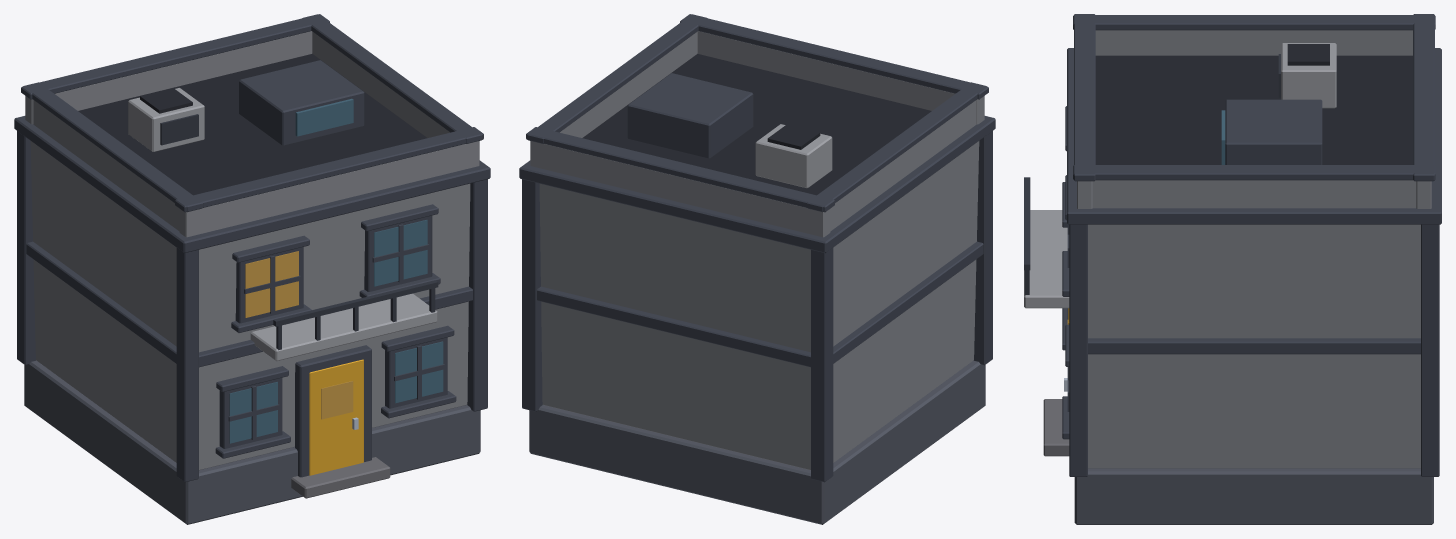
The model's file is Stylized_Apoc_House_02_Concrete_Duplex.fbx.
3 renders of one model, left to right at view 1: azimuth 30°, elevation 25°; view 2: azimuth 150°, elevation 25°; view 3: azimuth 270°, elevation 25°, orthographic. The views are drawn at different scales.
Parts seen in each view (by area): view 1: Stylized_Apoc_House_02_Concrete_Duplex; view 2: Stylized_Apoc_House_02_Concrete_Duplex; view 3: Stylized_Apoc_House_02_Concrete_Duplex.
Boxes of the visible parts, <box> form: Stylized_Apoc_House_02_Concrete_Duplex: <box>14,14,490,524</box>; Stylized_Apoc_House_02_Concrete_Duplex: <box>519,14,995,524</box>; Stylized_Apoc_House_02_Concrete_Duplex: <box>1024,14,1441,524</box>.
Bounding box in the file's own units: 5.02 × 5.12 × 5.37.
